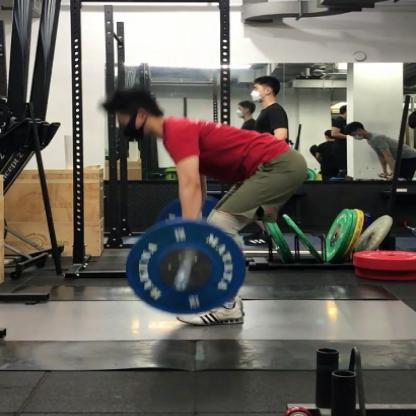Barbell: (120, 216, 251, 318)
